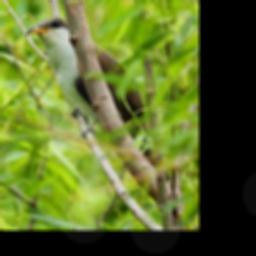Cuckoo: (20, 15, 181, 182)
